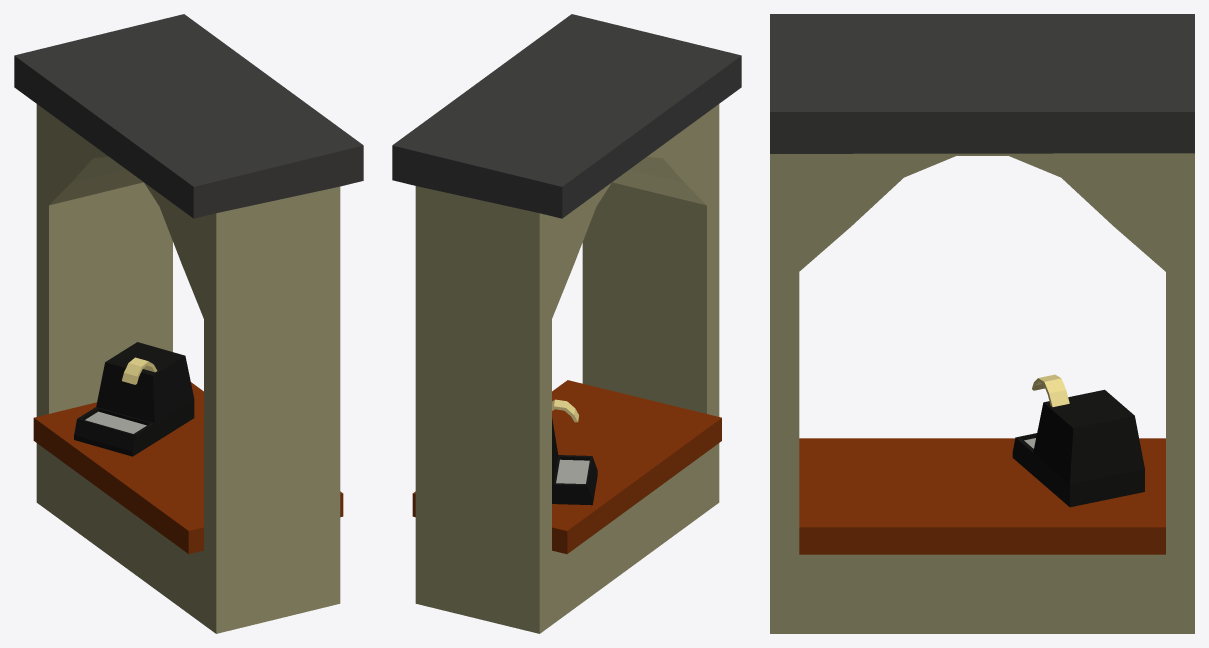
File: translationPlace.fbx
The picture shows the model from 3 angles, left to right: view 1: azimuth 30°, elevation 25°; view 2: azimuth 150°, elevation 25°; view 3: azimuth 270°, elevation 25°; orthographic projection. The views are drawn at different scales.
Visible parts, largest first — view 1: Cube.004, Cube.005; view 2: Cube.004, Cube.005; view 3: Cube.004, Cube.005.
Boxes of the visible parts, <box> form: Cube.004: <box>14,14,363,633</box>; Cube.005: <box>74,342,194,456</box>; Cube.004: <box>392,14,741,633</box>; Cube.005: <box>552,399,597,505</box>; Cube.004: <box>770,14,1194,633</box>; Cube.005: <box>1012,374,1144,507</box>.
Size of the model in its own units: 109 by 278 by 200.
